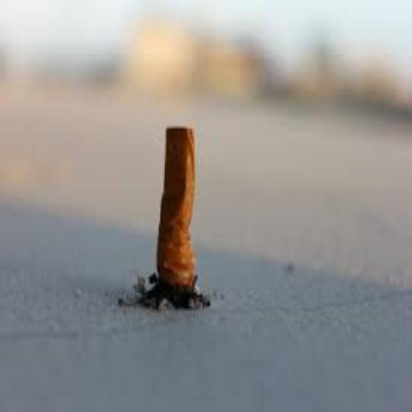cigarette: (146, 120, 201, 316)
